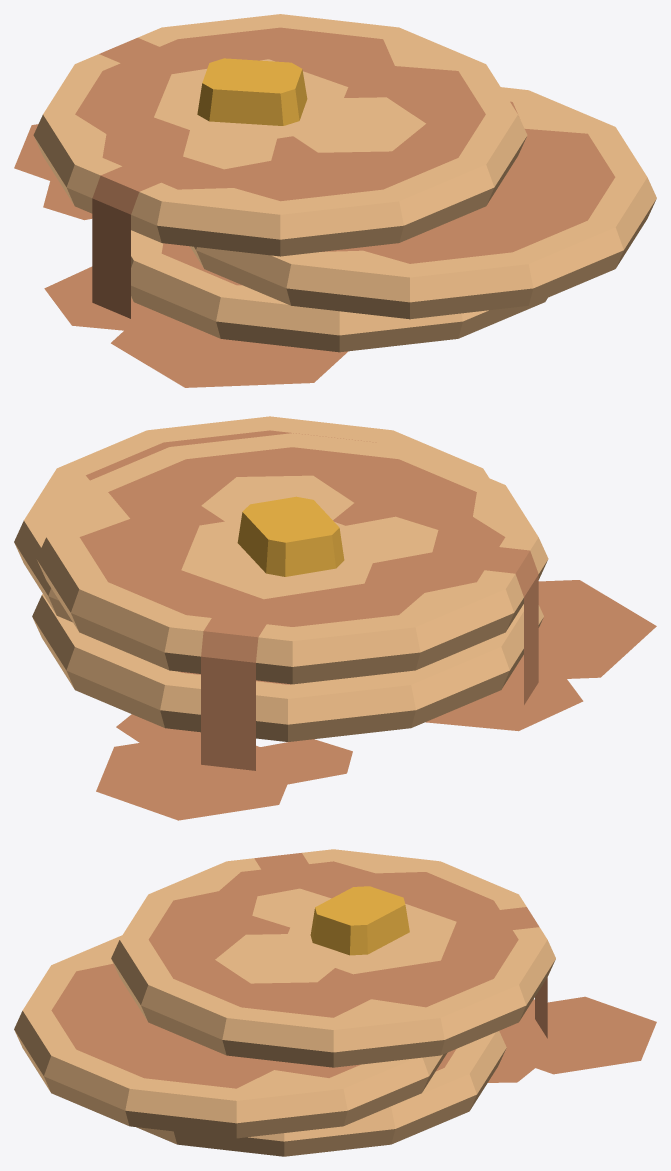
Rendered from pancakes.obj.
The picture shows the model from 3 angles, top to bottom: view 1: azimuth 30°, elevation 25°; view 2: azimuth 150°, elevation 25°; view 3: azimuth 270°, elevation 25°; orthographic projection. The views are drawn at different scales.
Parts seen in each view (by area): view 1: pancake, pancakes, butter; view 2: pancake, pancakes, butter; view 3: pancake, pancakes, butter.
Boxes of the visible parts, x1,y1,x2,y2 form: pancake: [33, 14, 656, 352]; pancakes: [14, 124, 348, 387]; butter: [197, 58, 307, 125]; pancake: [14, 416, 548, 770]; pancakes: [96, 580, 656, 820]; butter: [237, 496, 344, 576]; pancake: [14, 849, 555, 1156]; pancakes: [488, 996, 656, 1082]; butter: [310, 886, 409, 955].
Bounding box in the file's own units: 0.4355 × 0.1216 × 0.5039.
